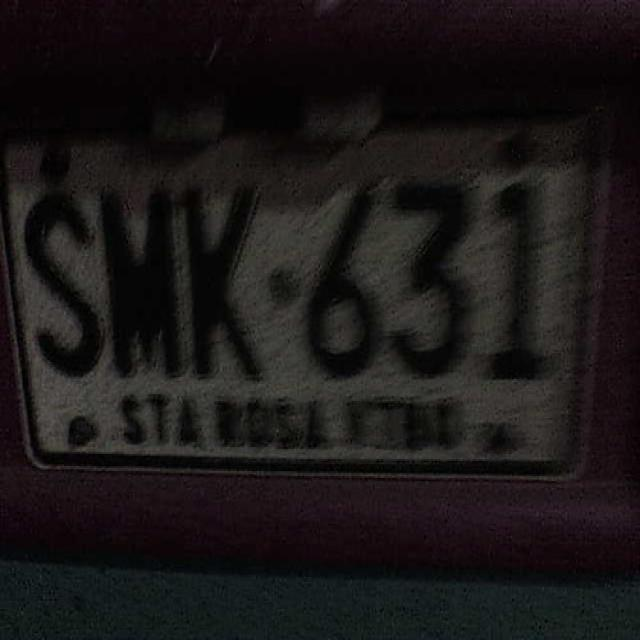placas: (20, 167, 575, 389)
